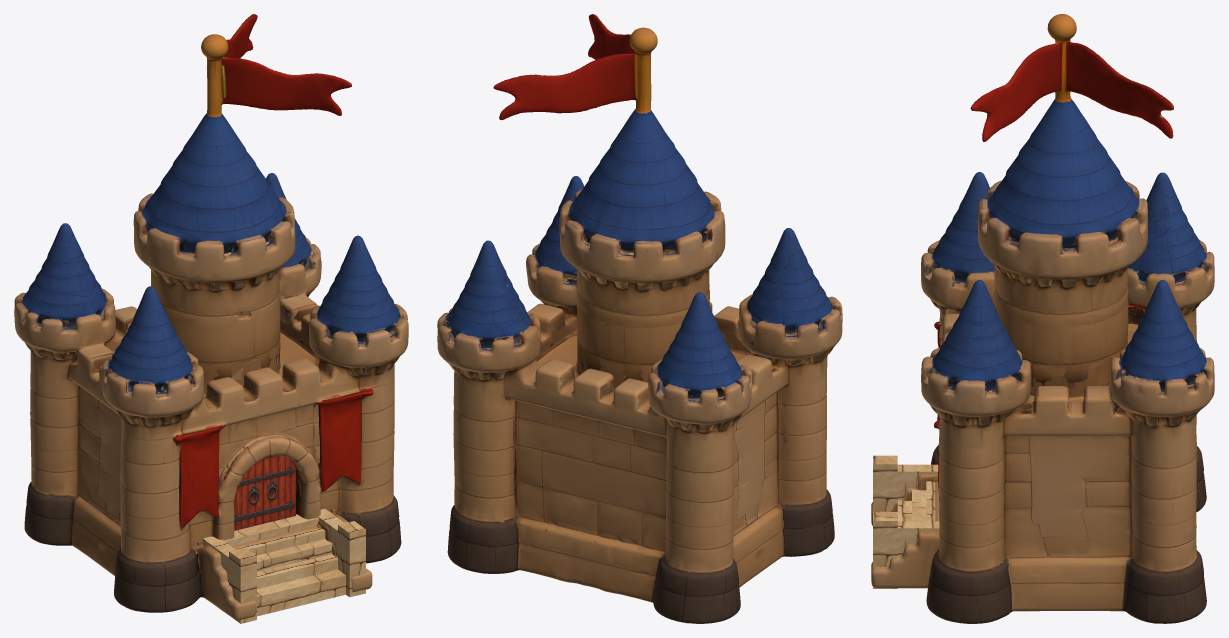
Rendered from ck_keep.glb.
3 views of the same model, side by side, from view 1: azimuth 30°, elevation 25°; view 2: azimuth 150°, elevation 25°; view 3: azimuth 270°, elevation 25° (orthographic). The views are drawn at different scales.
Visible parts, largest first — view 1: ck_keep, KeepEntry, KeepDoor; view 2: ck_keep; view 3: ck_keep, KeepEntry.
Boxes of the visible parts, x1,y1,x2,y2 form: ck_keep: (14,14,408,620); KeepEntry: (203,509,365,623); KeepDoor: (233,455,295,530); ck_keep: (437,14,842,623); ck_keep: (871,14,1214,623); KeepEntry: (873,455,939,588).
Size of the model in its own units: 1.19 by 1.98 by 1.14.
Materials: 3 (3 with a texture image).
